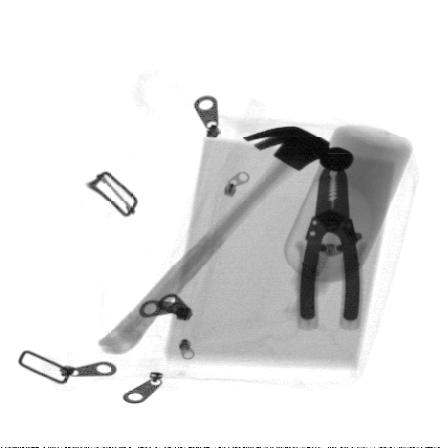Hammer: (100, 125, 355, 356)
Pliers: (296, 161, 368, 330)
